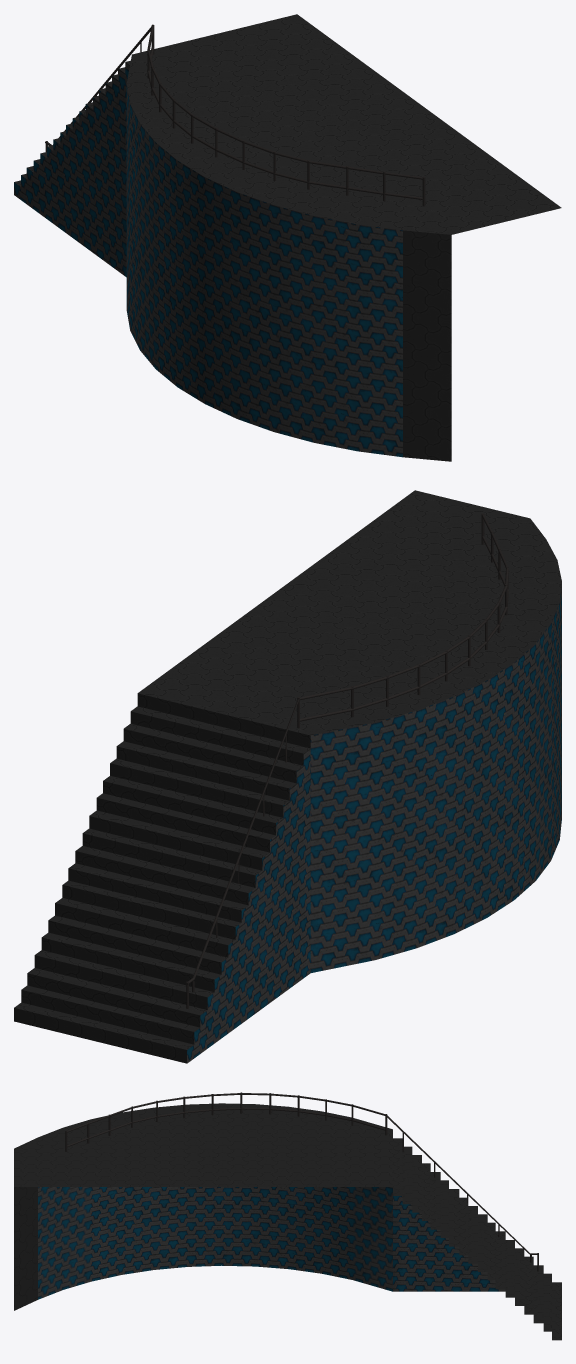
File: Ref_Platform.fbx
The picture shows the model from 3 angles, top to bottom: view 1: azimuth 30°, elevation 25°; view 2: azimuth 150°, elevation 25°; view 3: azimuth 270°, elevation 25°; orthographic projection. The views are drawn at different scales.
Parts seen in each view (by area): view 1: Platform; view 2: Platform; view 3: Platform.
Part boxes in pixels (left/top/right/bottom): Platform: left=14, top=14, right=561, bottom=461; Platform: left=14, top=490, right=561, bottom=1063; Platform: left=14, top=1092, right=561, bottom=1340.
Bounding box in the file's own units: 423 × 431 × 1169.
